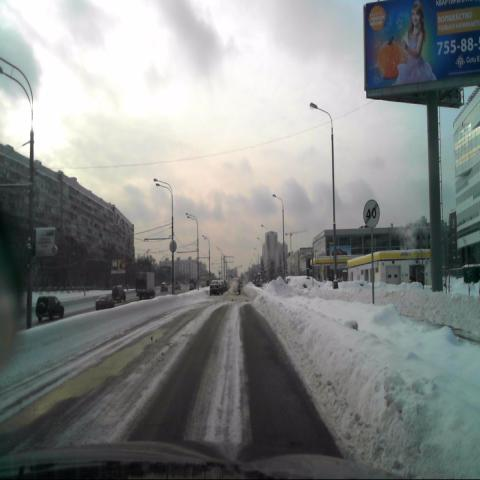3_25: (362, 197, 380, 229)
